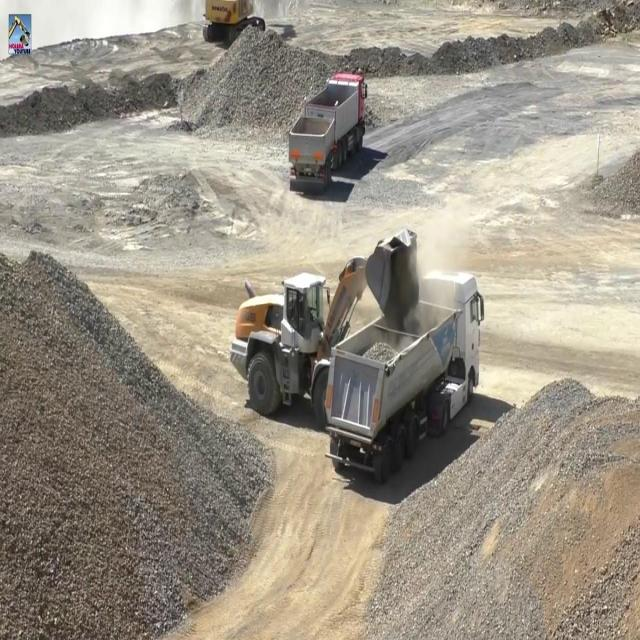Dump Truck: (324, 262, 484, 486), (287, 68, 367, 194)
Loader: (228, 223, 421, 422)
